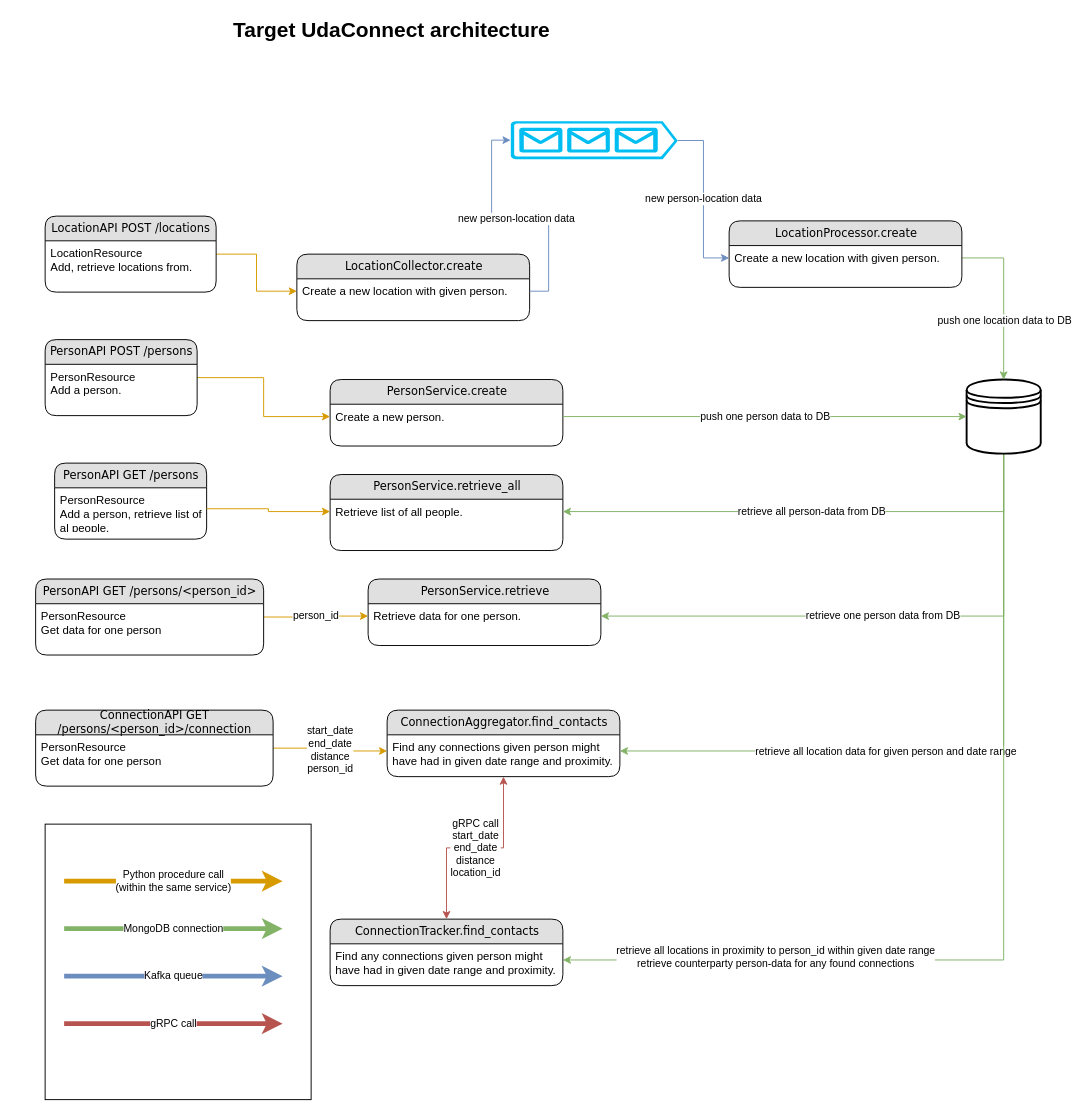
This 1088x1116 diagram has some shape labels left out. The centre of each missing label's shape, as x and y in pixels:
Kafka queue for people-location ingestion: point 593,140
Legend: point 177,961
MongoDB: point 1003,416
